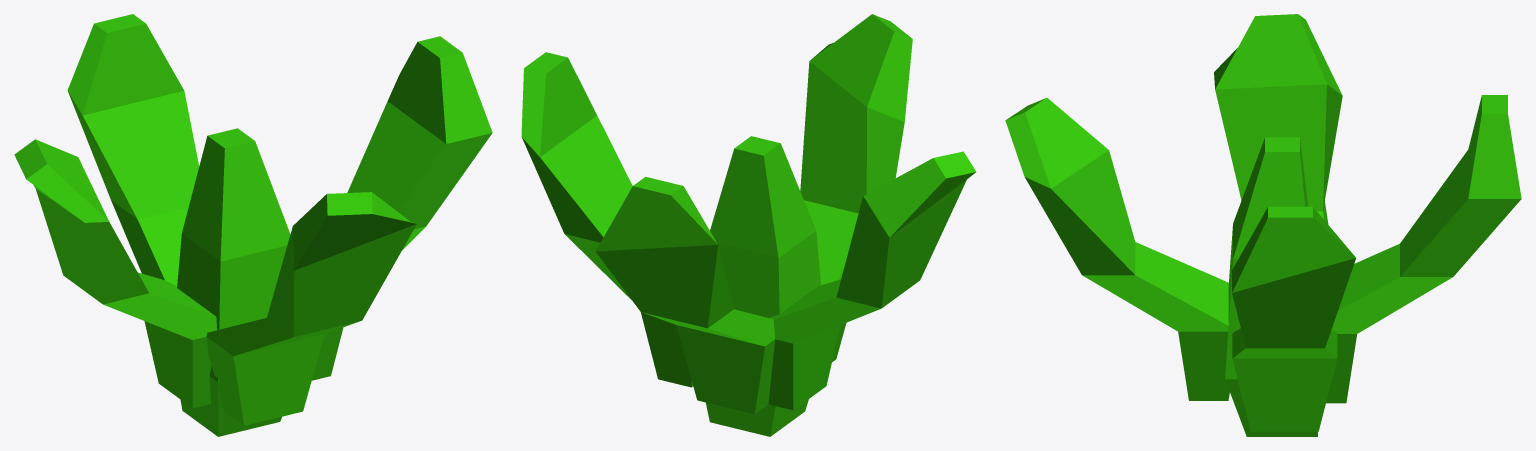
Rendered from plant.glb.
The picture shows the model from 3 angles, left to right: view 1: azimuth 30°, elevation 25°; view 2: azimuth 150°, elevation 25°; view 3: azimuth 270°, elevation 25°; orthographic projection. The views are drawn at different scales.
Parts seen in each view (by area): view 1: Cube; view 2: Cube; view 3: Cube.
Boxes of the visible parts, x1,y1,x2,y2 form: Cube: (14,14,492,436); Cube: (521,14,976,436); Cube: (1005,14,1521,436).
Size of the model in its own units: 4.44 by 2.98 by 4.41.
